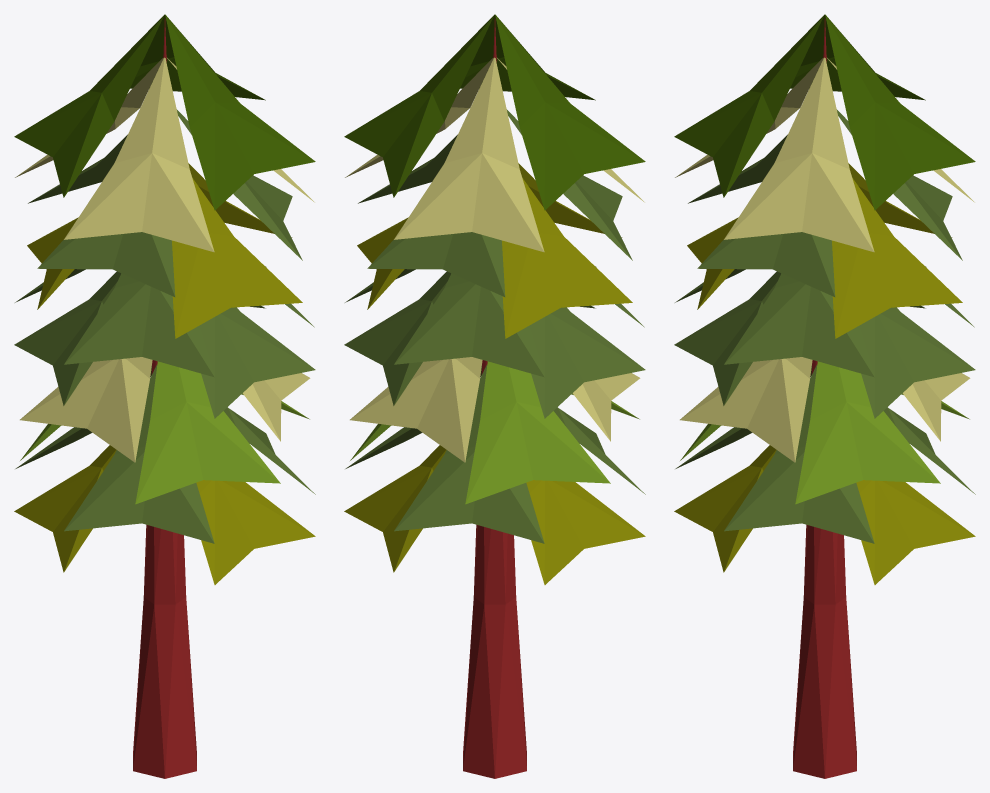
The model's file is origami_pine_medium.fbx.
The picture shows the model from 3 angles, left to right: view 1: azimuth 30°, elevation 25°; view 2: azimuth 150°, elevation 25°; view 3: azimuth 270°, elevation 25°; orthographic projection.
Parts seen in each view (by area): view 1: G-Object.001, G-Object.002; view 2: G-Object.001, G-Object.002; view 3: G-Object.001, G-Object.002.
Boxes of the visible parts, x1,y1,x2,y2 form: G-Object.001: [14, 14, 315, 584]; G-Object.002: [133, 18, 196, 778]; G-Object.001: [344, 14, 645, 584]; G-Object.002: [463, 18, 526, 778]; G-Object.001: [674, 14, 975, 584]; G-Object.002: [793, 18, 856, 778].
Bounding box in the file's own units: 334 × 900 × 329.
